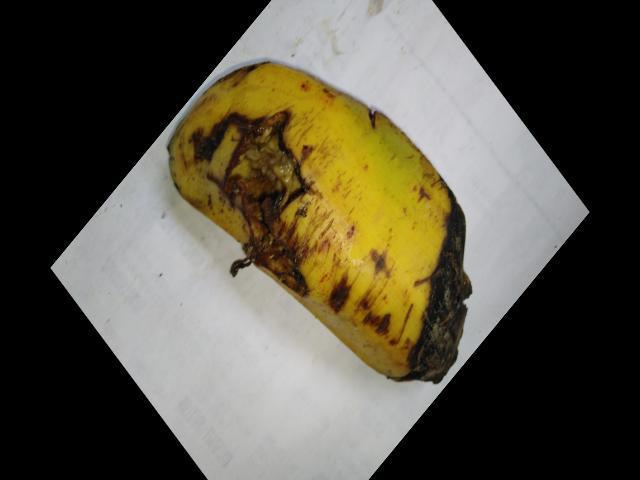rotten: (166, 88, 381, 336), (377, 184, 501, 423)
